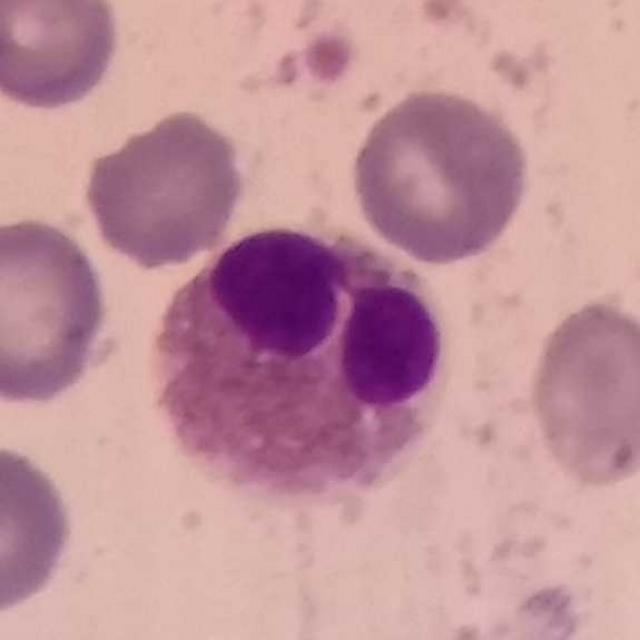Eosinophil: (155, 225, 440, 509)
Platelets: (291, 24, 364, 86)
RBC: (345, 83, 533, 266), (78, 105, 249, 268), (0, 210, 118, 411), (522, 294, 640, 490), (0, 438, 79, 622), (0, 0, 126, 114)
